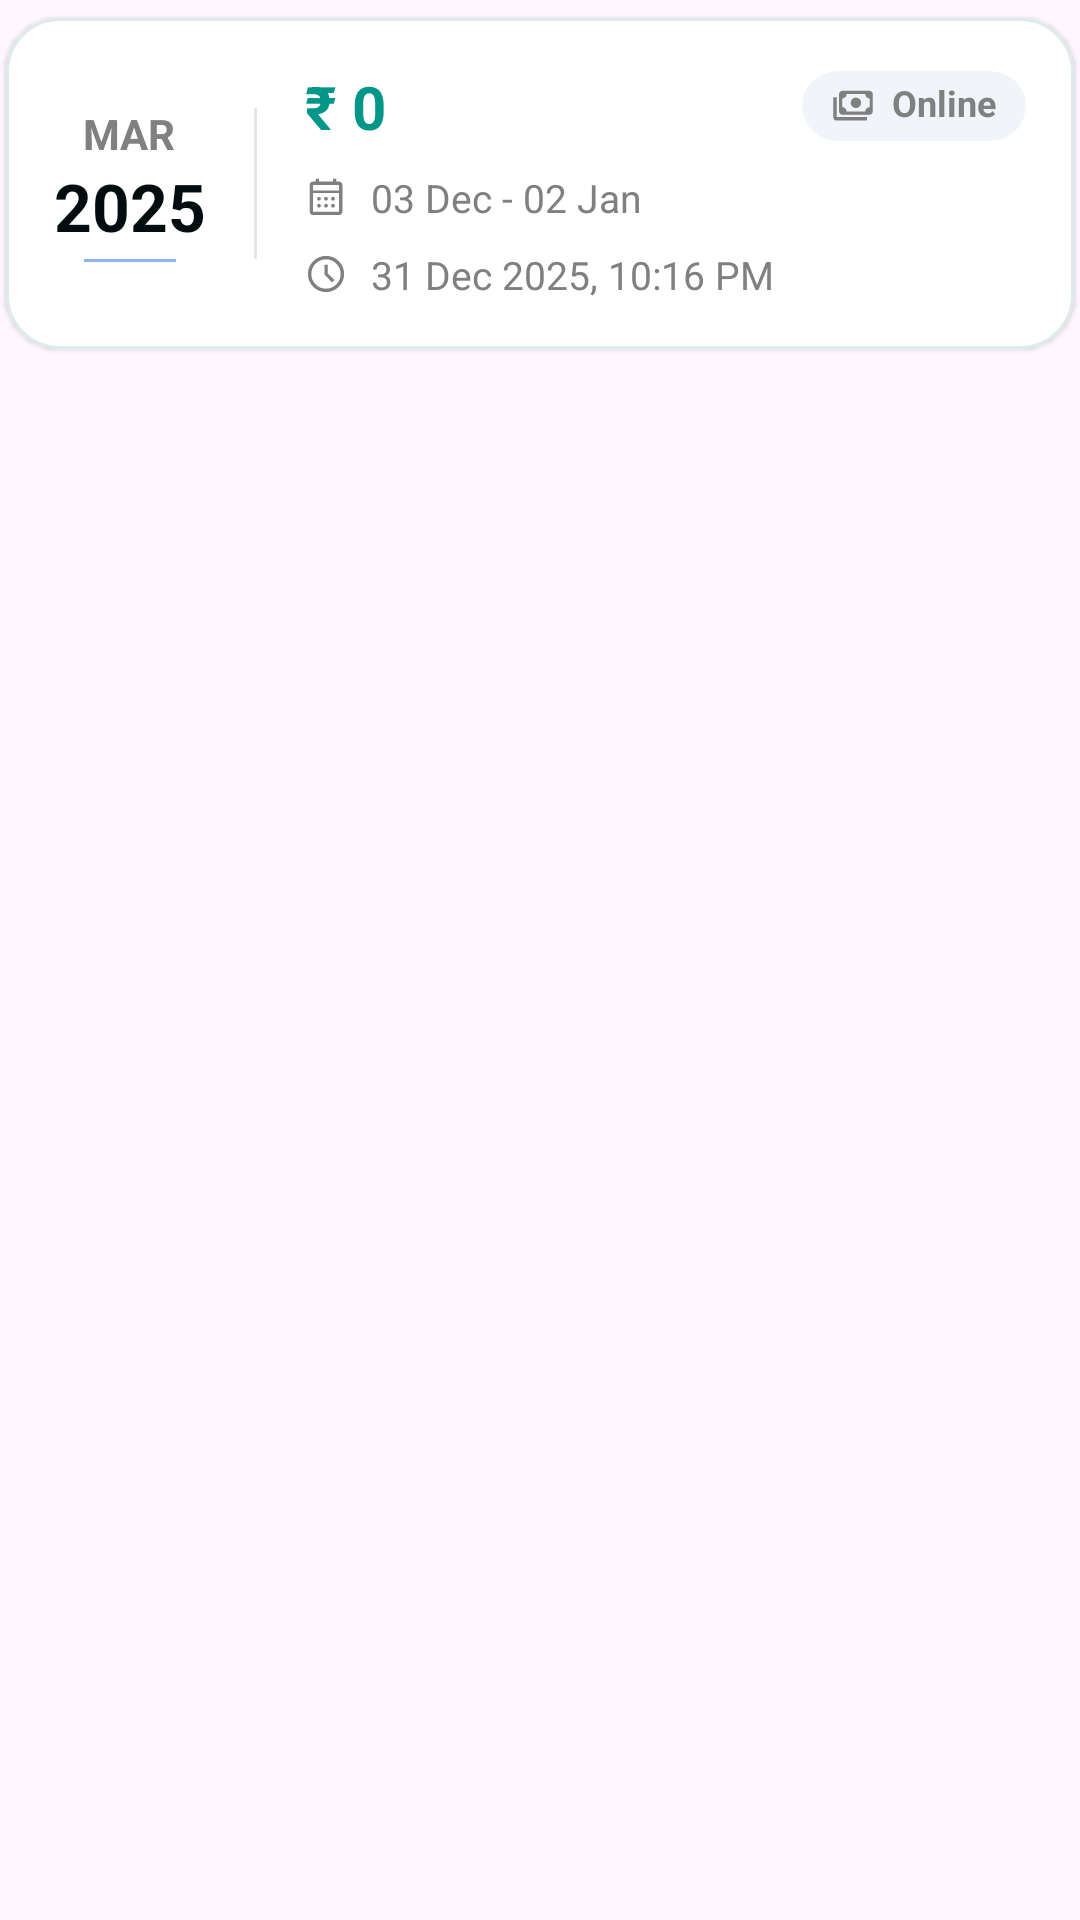

Screen size 1080px×1920px. Icon name, then its center in pixels as (x,y):
calendar month: (326,196)
cash payment: (853,105)
clock: (326,274)
